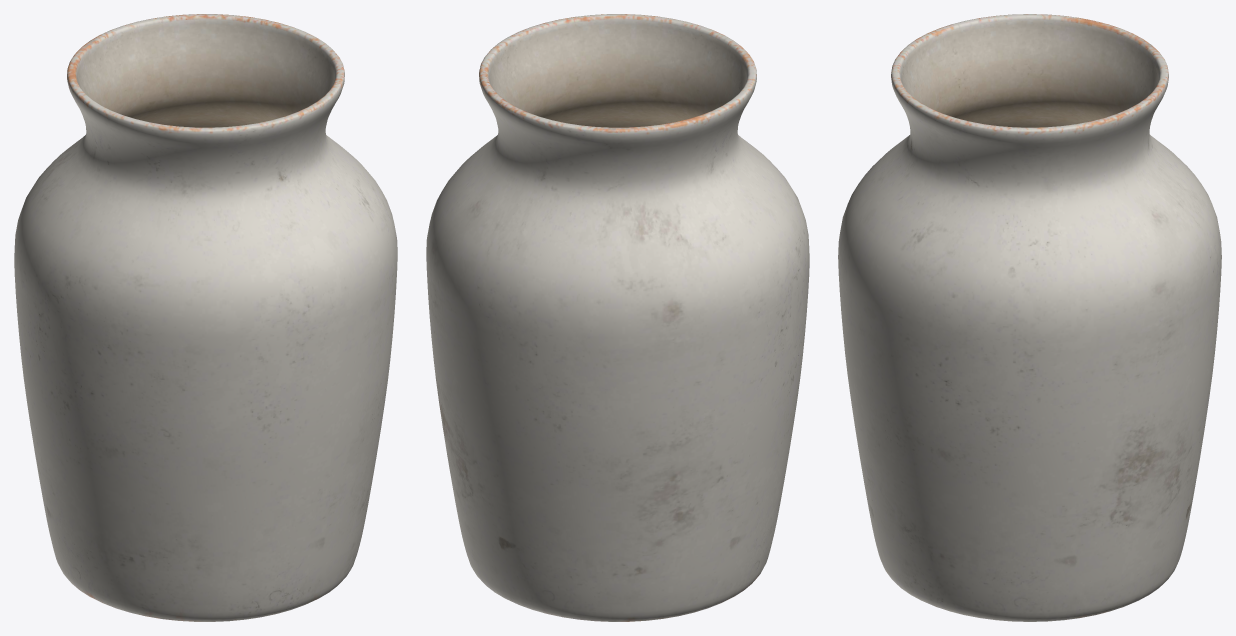
File: ceramic_vase_02_4k-v2.glb
The picture shows the model from 3 angles, left to right: view 1: azimuth 30°, elevation 25°; view 2: azimuth 150°, elevation 25°; view 3: azimuth 270°, elevation 25°; orthographic projection.
Visible parts, largest first — view 1: ceramic_vase_02; view 2: ceramic_vase_02; view 3: ceramic_vase_02.
Part boxes in pixels (bbox=[...]): ceramic_vase_02: bbox=[14, 14, 397, 621]; ceramic_vase_02: bbox=[426, 14, 809, 621]; ceramic_vase_02: bbox=[838, 14, 1221, 621].
Bounding box in the file's own units: 0.2184 × 0.3092 × 0.2184.
Materials: 1 (1 with a texture image).
